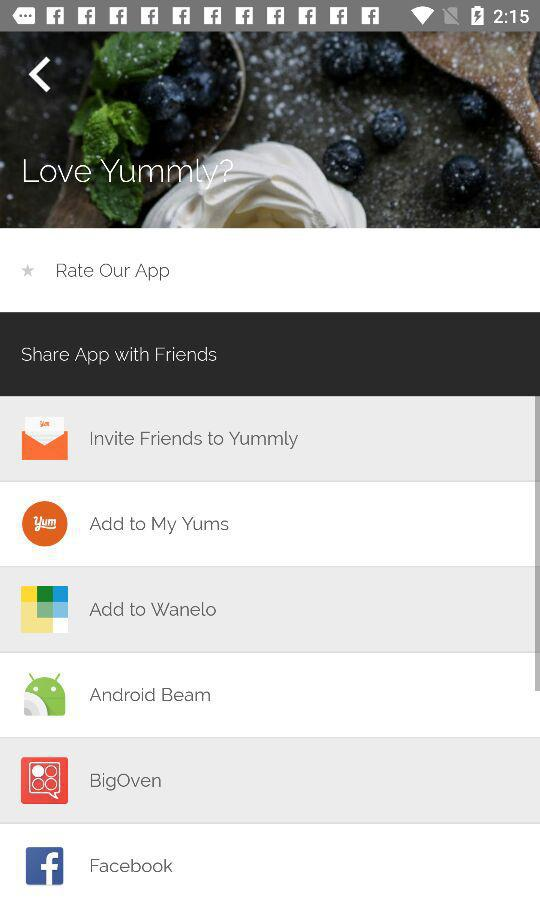Icon: (26, 847, 65, 886), (29, 57, 52, 94), (23, 265, 34, 278)
Image: (2, 33, 540, 229), (21, 585, 70, 634), (21, 757, 69, 805), (23, 501, 69, 547), (22, 416, 69, 461), (24, 672, 67, 717)
Modal: (1, 313, 540, 897)
Text: (23, 159, 234, 191), (91, 430, 300, 451), (22, 346, 218, 367), (89, 515, 230, 535), (90, 686, 212, 703), (89, 602, 218, 618), (57, 264, 170, 282), (91, 772, 163, 792), (91, 858, 175, 873)
UpperTaskBar: (1, 1, 540, 33)
